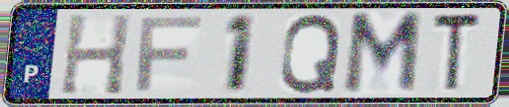1: (221, 11, 255, 96)
F: (133, 14, 205, 94)
H: (56, 11, 134, 98)
M: (339, 9, 426, 98)
Q: (277, 11, 345, 96)
T: (431, 10, 484, 96)
